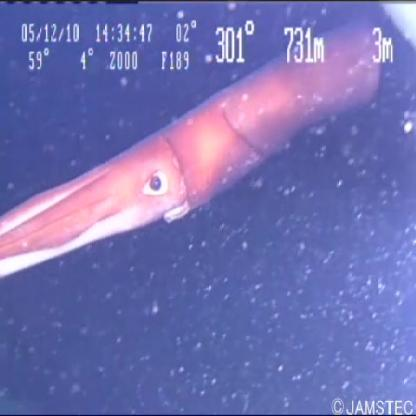Bio: (1, 17, 389, 280)
